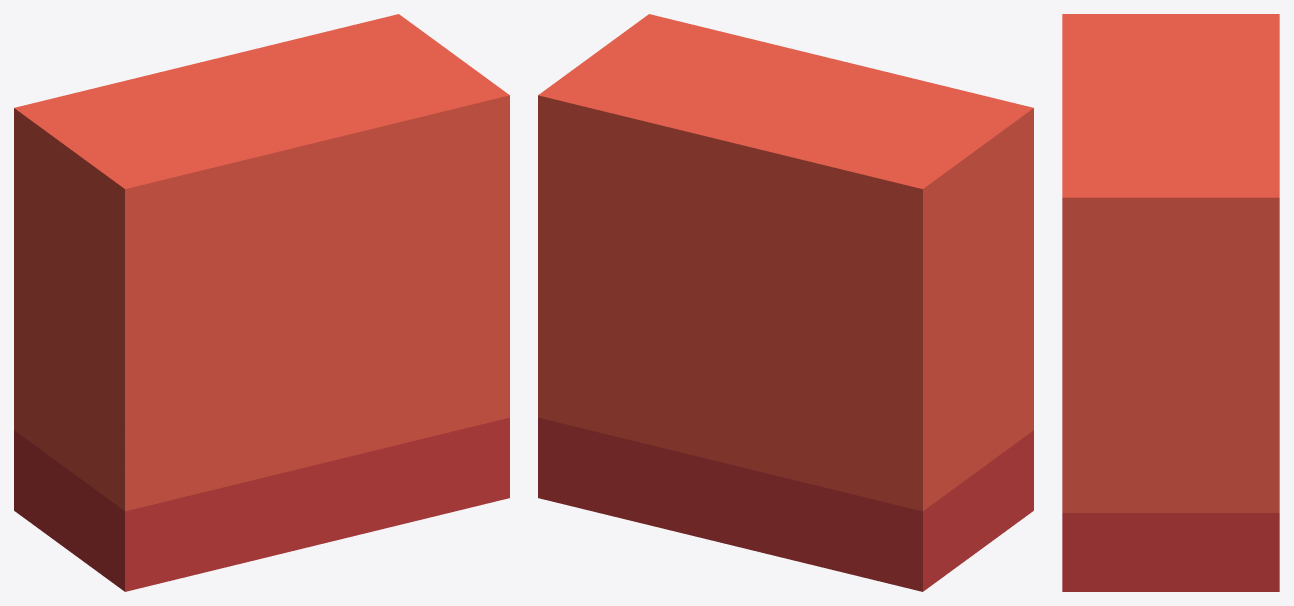
The model's file is building_block3.obj.
The picture shows the model from 3 angles, left to right: view 1: azimuth 30°, elevation 25°; view 2: azimuth 150°, elevation 25°; view 3: azimuth 270°, elevation 25°; orthographic projection. The views are drawn at different scales.
Parts seen in each view (by area): view 1: mergedBlocks; view 2: mergedBlocks; view 3: mergedBlocks.
Part boxes in pixels (<box>): mergedBlocks: <box>14,14,509,591</box>; mergedBlocks: <box>538,14,1033,591</box>; mergedBlocks: <box>1062,14,1279,591</box>.
Size of the model in its own units: 1 by 1 by 0.5.
